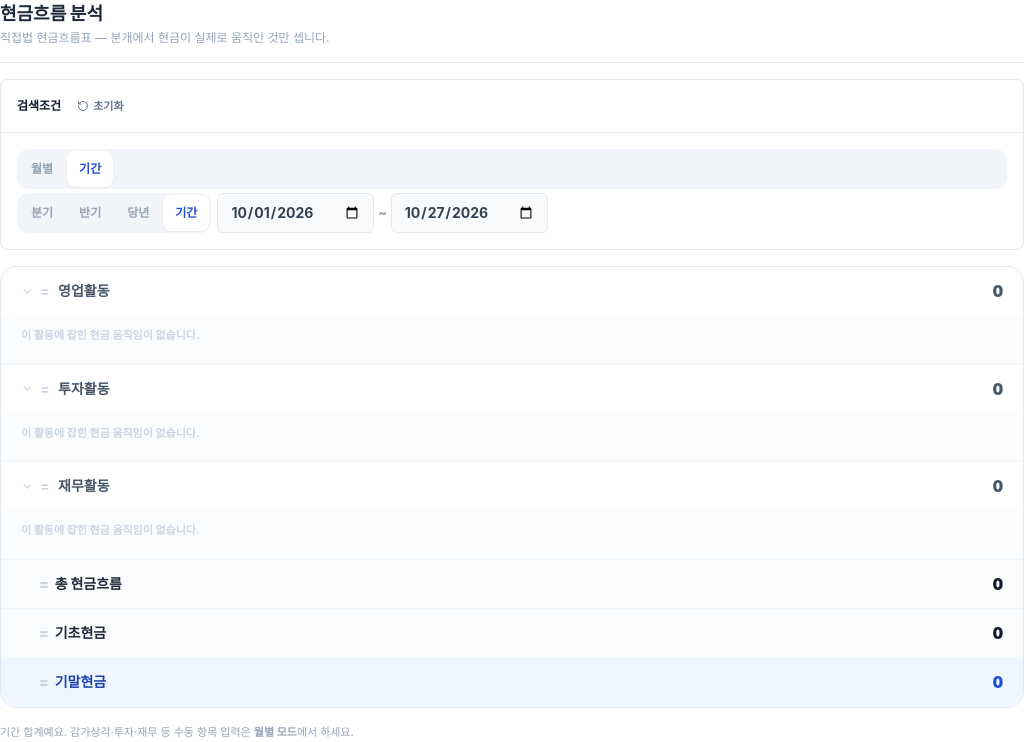
Scenario: 현금흐름의 월별·기간 전환은 원래 조회 상태를 유지한다
Step 1. Click the button "월별" → point(42, 169), box [19,151,65,187]
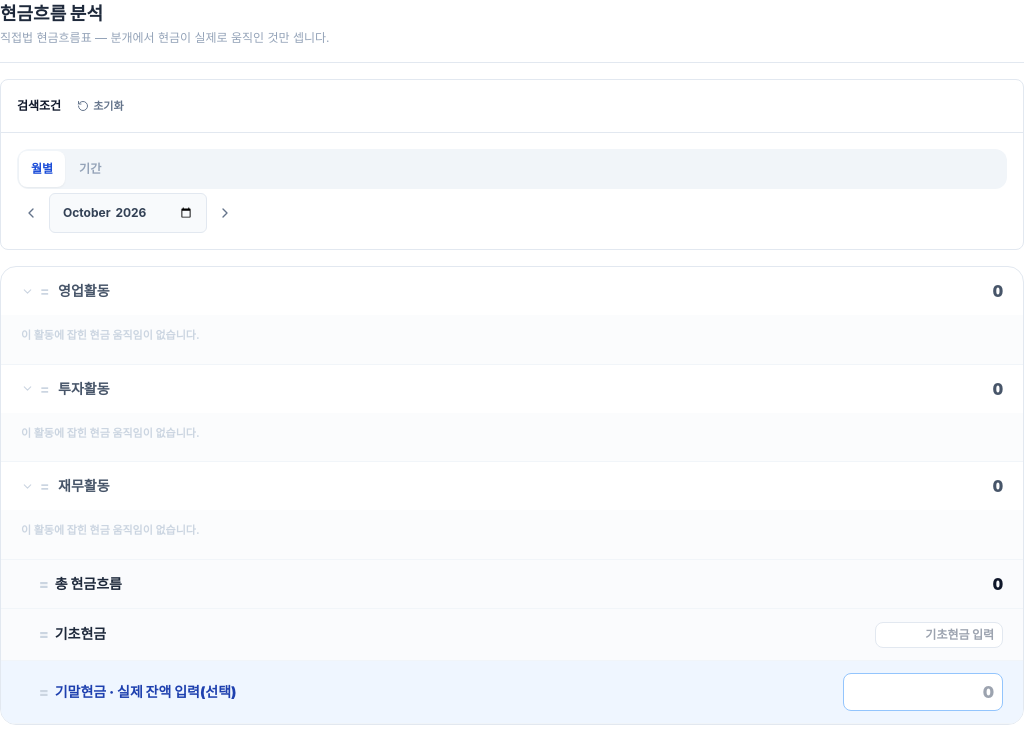
Step 2. Replace the text in the 1st field with "2026-07" → point(128, 213), box [49,193,207,233]
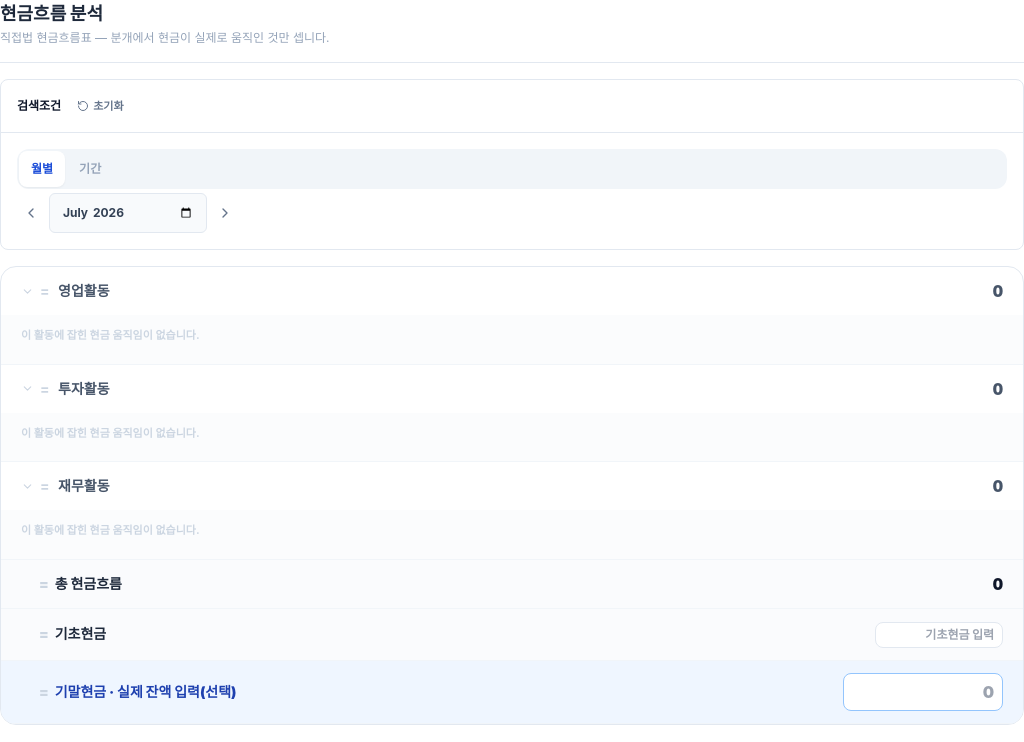
Step 3. Click the button "기간" → point(90, 169), box [67,151,113,187]
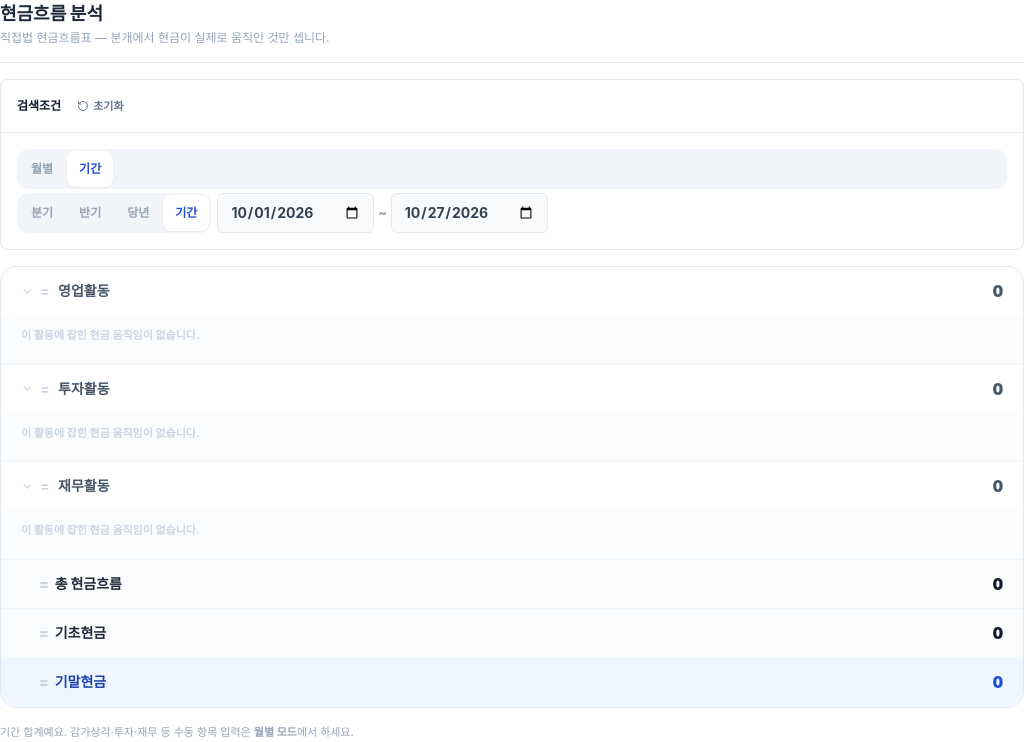
Now the field is gone
